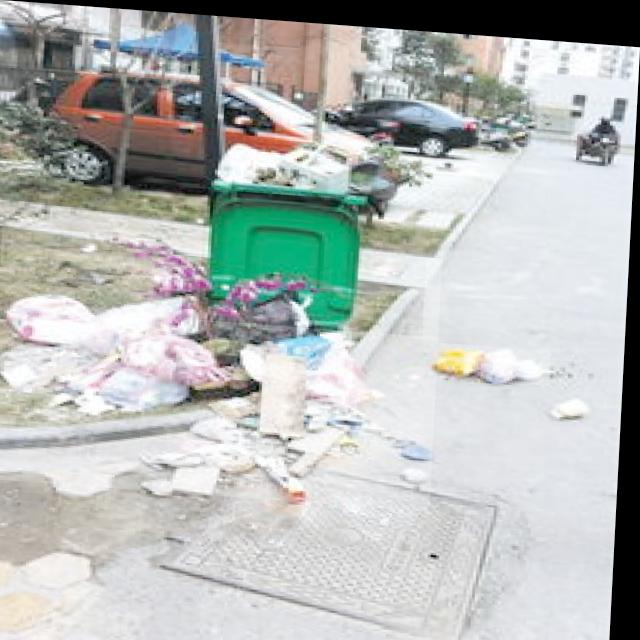garbage: (0, 226, 445, 504), (435, 335, 555, 377)
overflow: (202, 114, 434, 330)
